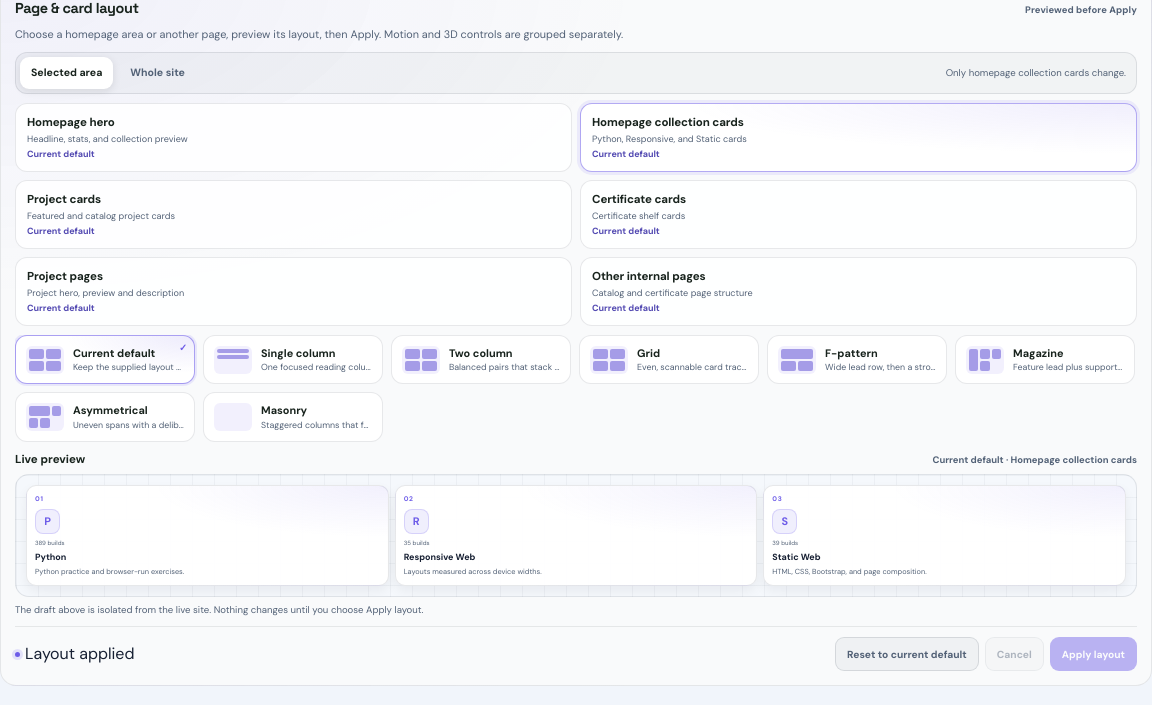
Test: LayoutStudio › cancels an unsaved preview without applying
Click the button "Two column Balanced pairs that stack on small screens.".
click(481, 360)  # box [391,335,571,384]
(page scrolled)
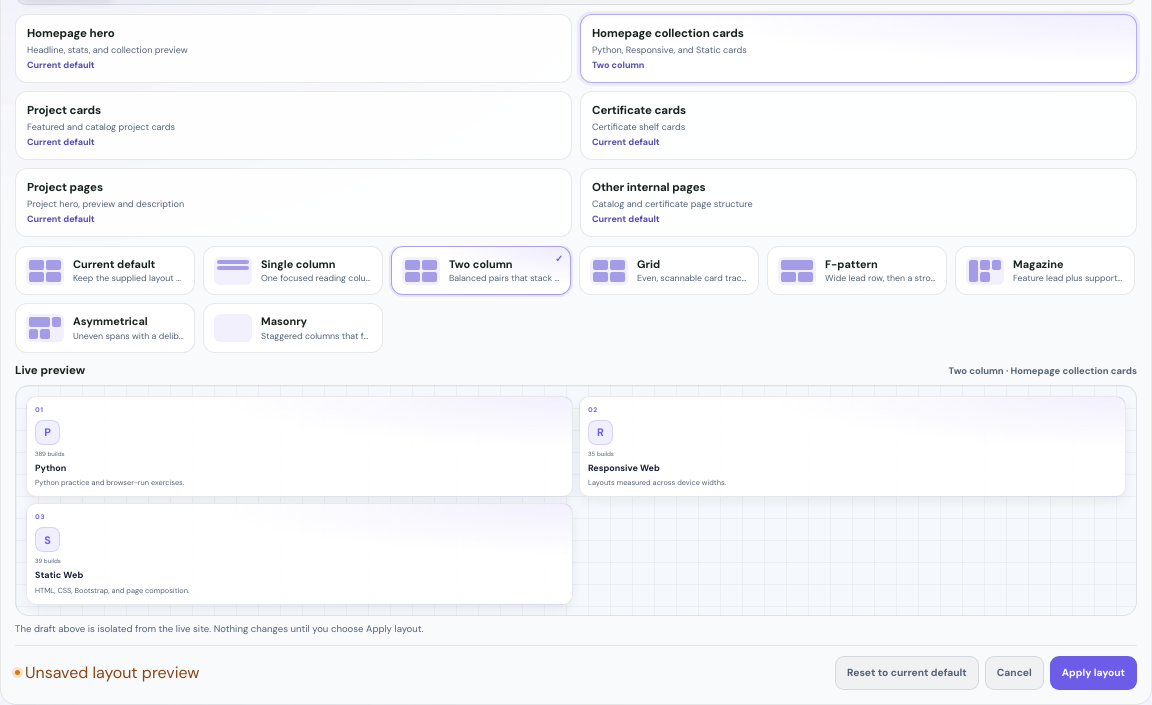
Click the button "Cancel".
click(1014, 673)  # box [985,656,1044,690]
(page scrolled)
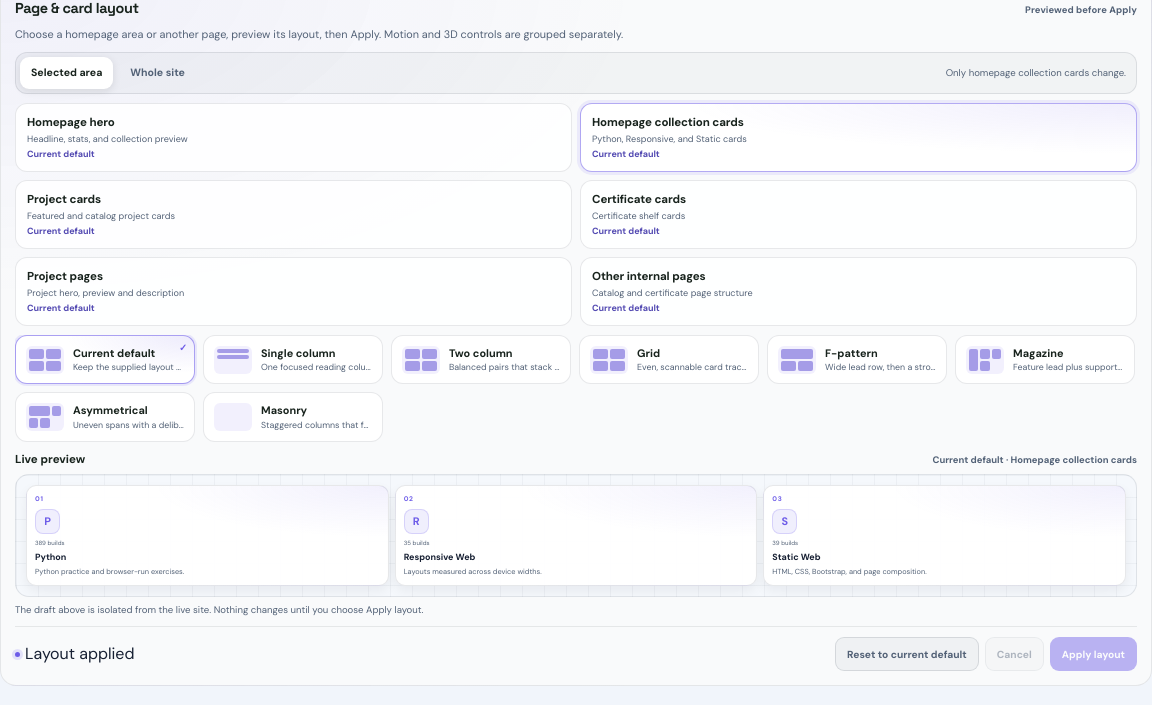
Expected: the element with class "layout-preview" is shown, [26,485,1126,586]
Result: the button "Apply layout" is disabled at [1050,637,1137,671]
